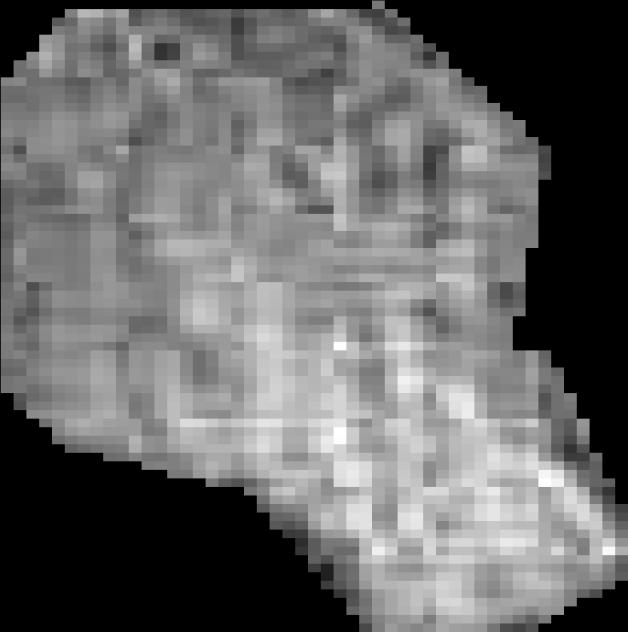tumor_good_chance: (1, 1, 628, 632)
